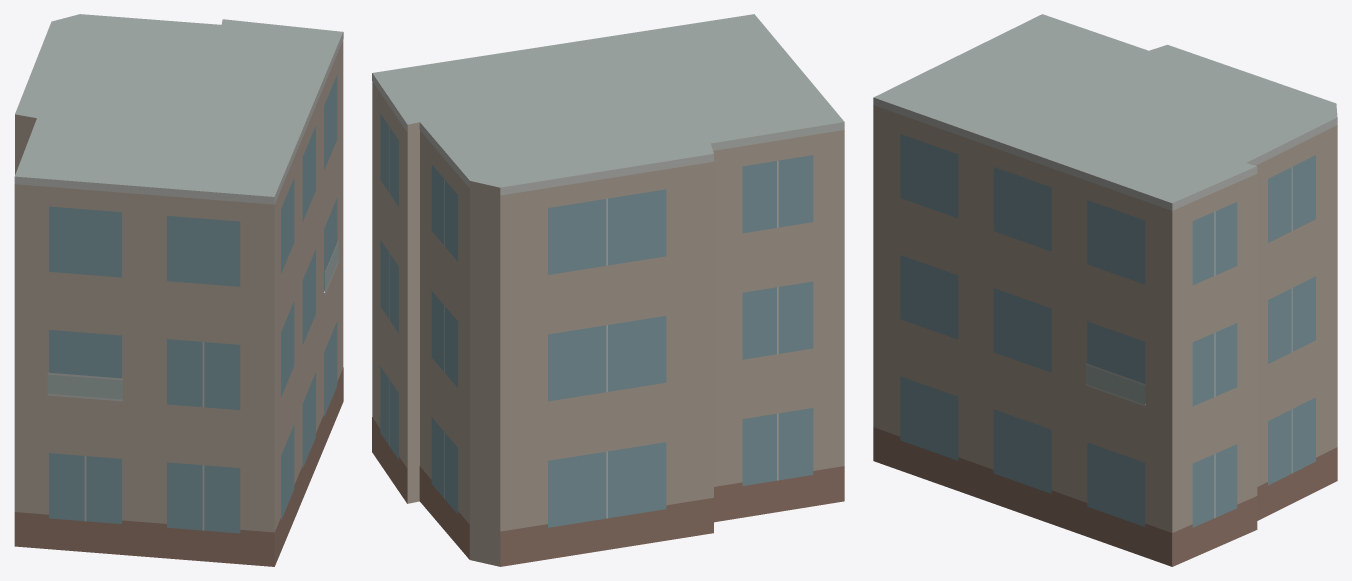
File: survey-upis-32667568.glb
The picture shows the model from 3 angles, left to right: view 1: azimuth 30°, elevation 25°; view 2: azimuth 150°, elevation 25°; view 3: azimuth 270°, elevation 25°; orthographic projection. The views are drawn at different scales.
Visible parts, largest first — view 1: survey-upis-32667568.tmp; view 2: survey-upis-32667568.tmp; view 3: survey-upis-32667568.tmp.
Part boxes in pixels (left/top/right/bottom): survey-upis-32667568.tmp: left=14, top=14, right=343, bottom=566; survey-upis-32667568.tmp: left=372, top=14, right=844, bottom=566; survey-upis-32667568.tmp: left=873, top=14, right=1337, bottom=566.
Size of the model in its own units: 13.19 by 11.8 by 13.66.
